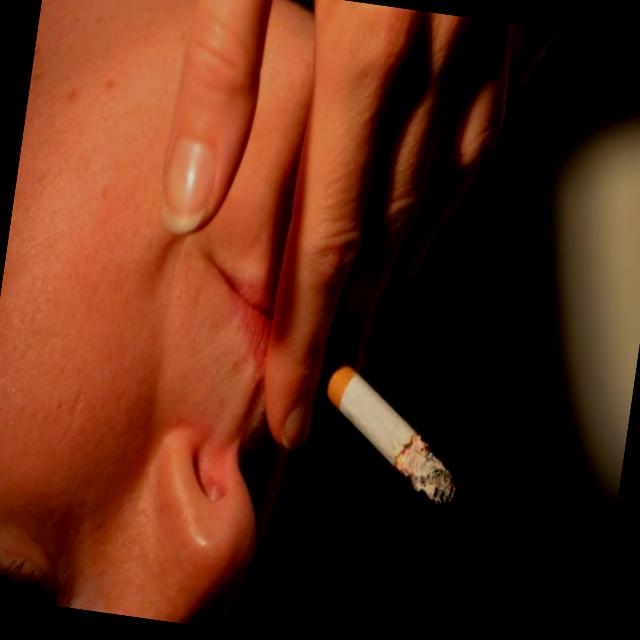smoke: (312, 362, 468, 520)
